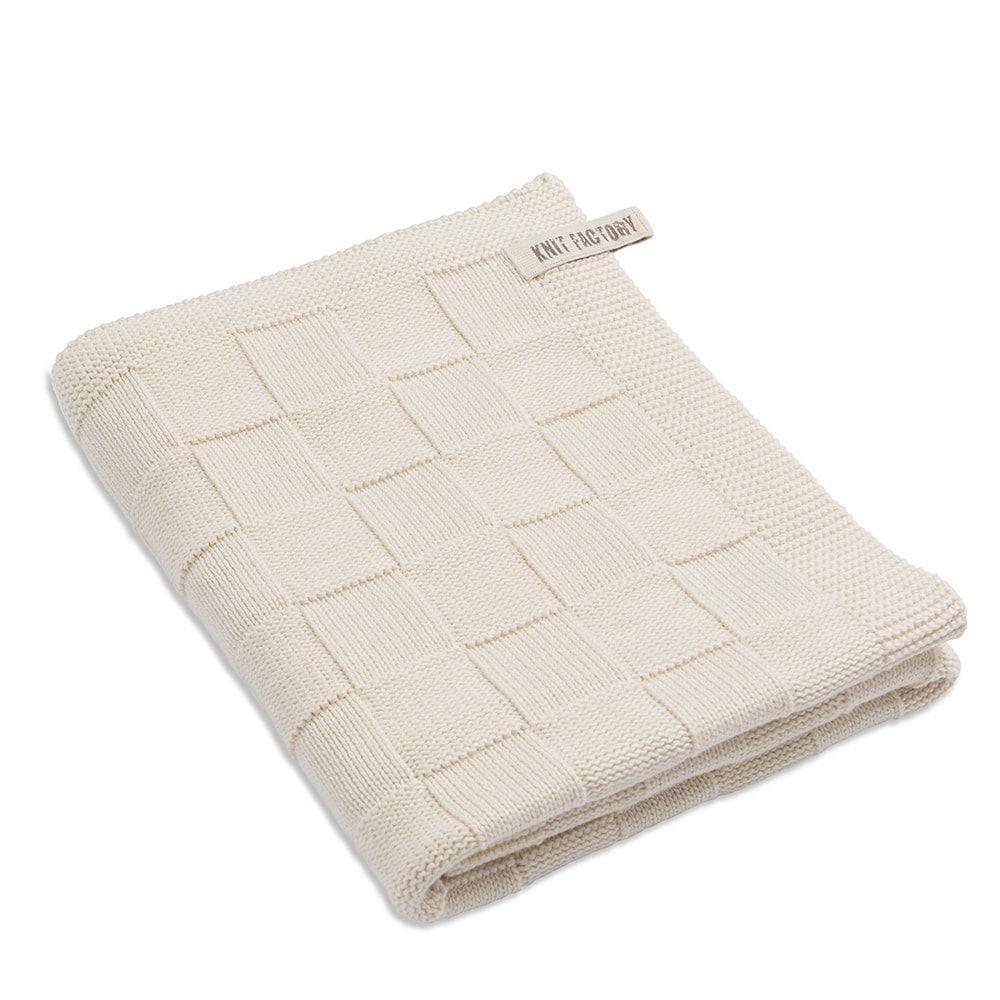towel: (15, 185, 992, 925)
